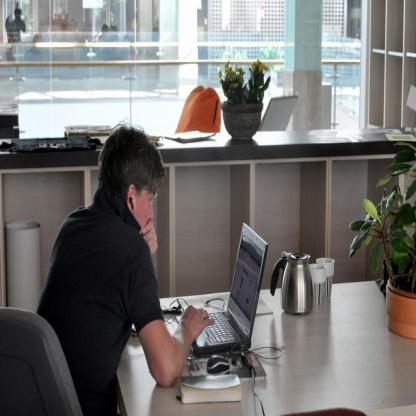board: (192, 222, 268, 356)
